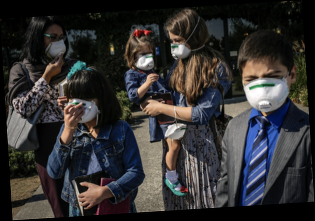with_mask: (243, 68, 292, 113), (69, 95, 99, 125), (44, 31, 69, 60), (170, 34, 193, 61), (135, 49, 156, 72)
